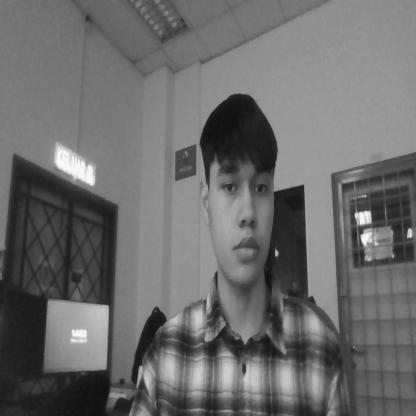Open-Eyes: (214, 159, 276, 209)
